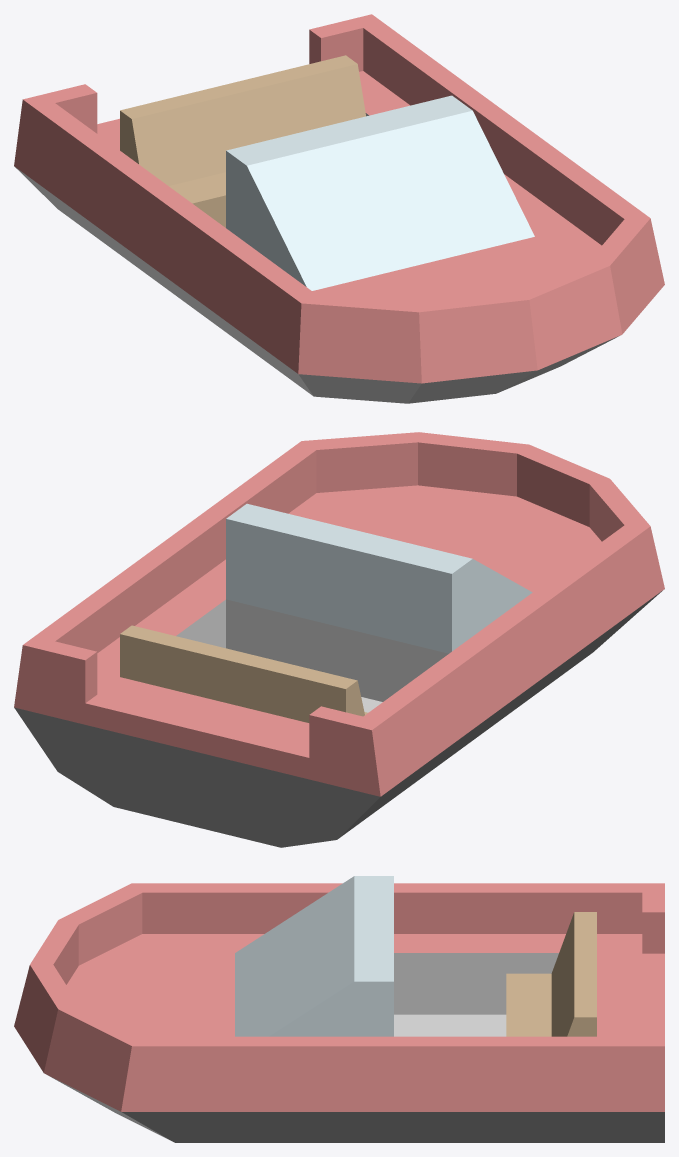
The model's file is boat-1.glb.
3 renders of one model, top to bottom at view 1: azimuth 30°, elevation 25°; view 2: azimuth 150°, elevation 25°; view 3: azimuth 270°, elevation 25°, orthographic. The views are drawn at different scales.
Parts seen in each view (by area): view 1: watercraftPack_013; view 2: watercraftPack_013; view 3: watercraftPack_013.
Part boxes in pixels (box(x1,y1,x2,y2)): watercraftPack_013: box(14, 14, 664, 403); watercraftPack_013: box(14, 432, 664, 847); watercraftPack_013: box(14, 876, 664, 1142).
Size of the model in its own units: 5.35 by 2.47 by 8.61.
